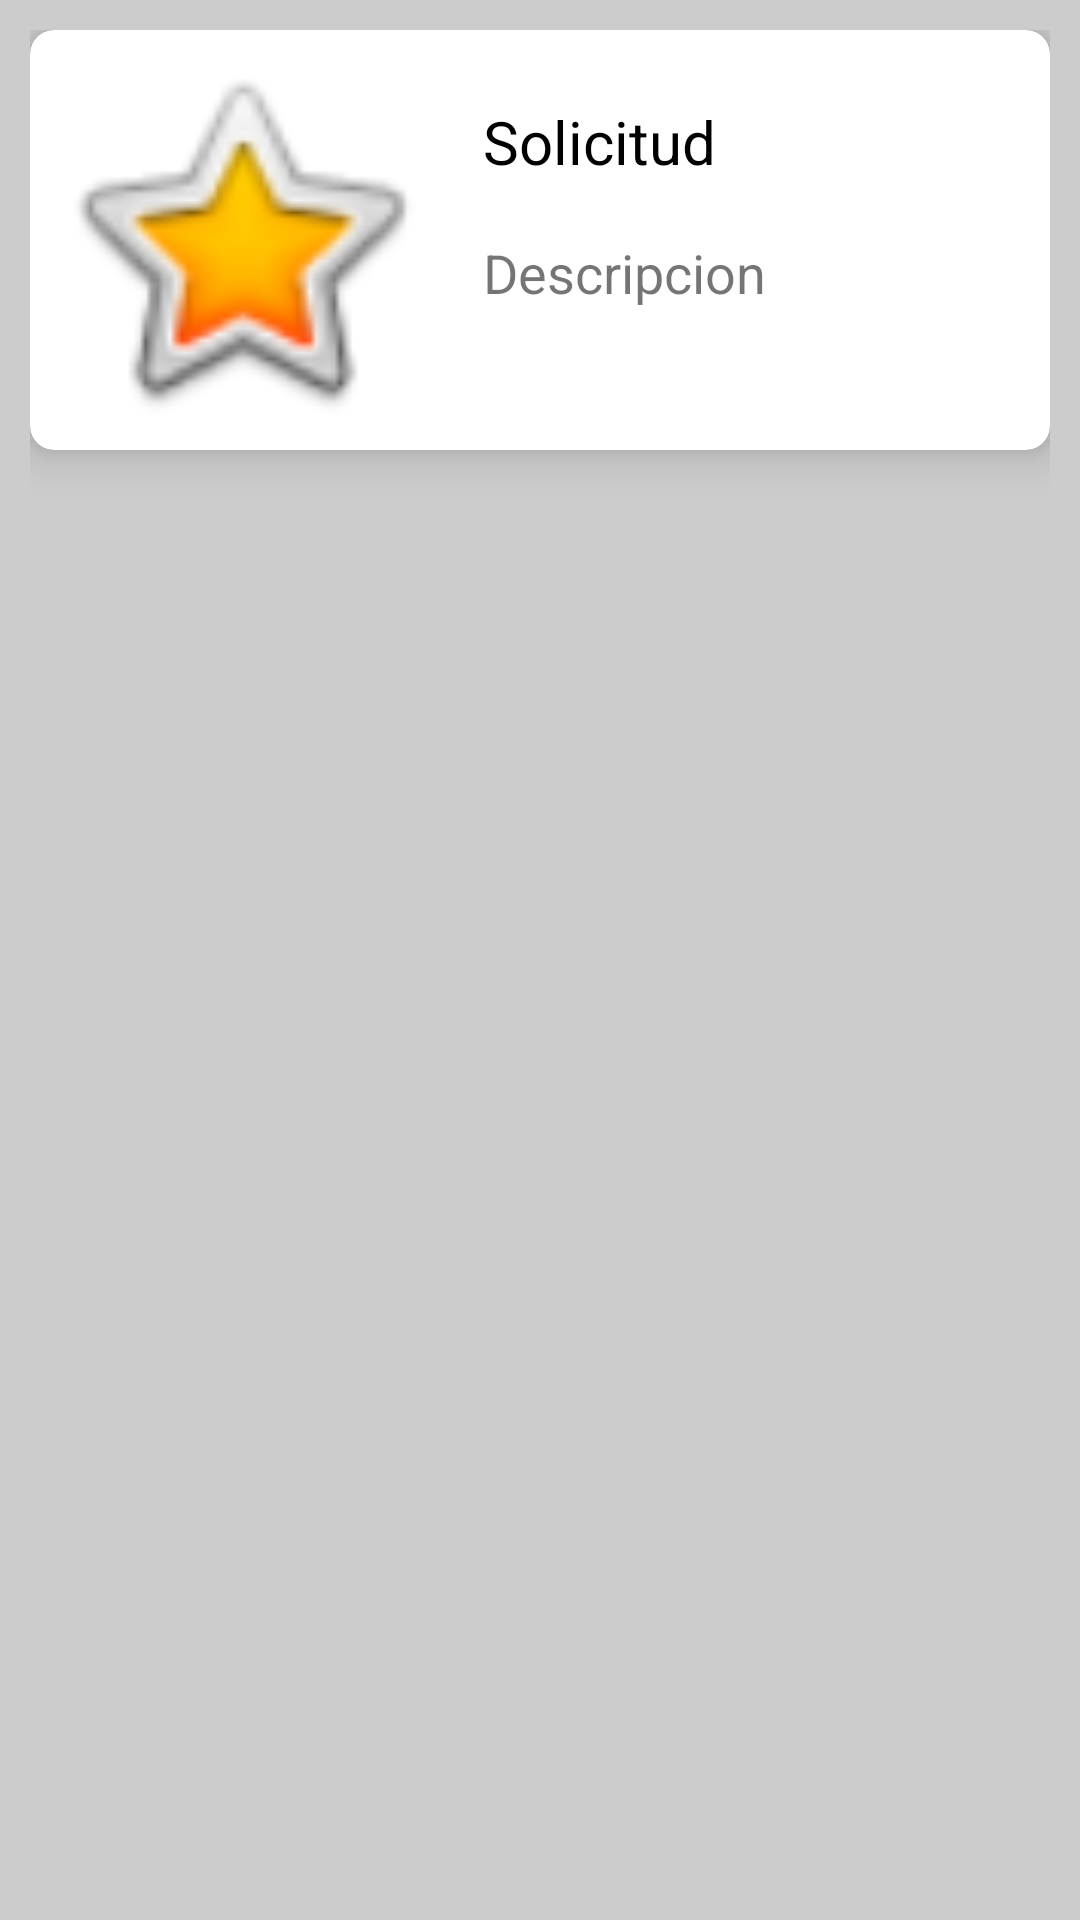

Screen size 1080*1920. Icon name, then its box in pixels as {"left": x1, "top": y1, "right": x2, "bottom": y2}:
star on: {"left": 80, "top": 84, "right": 406, "bottom": 402}
